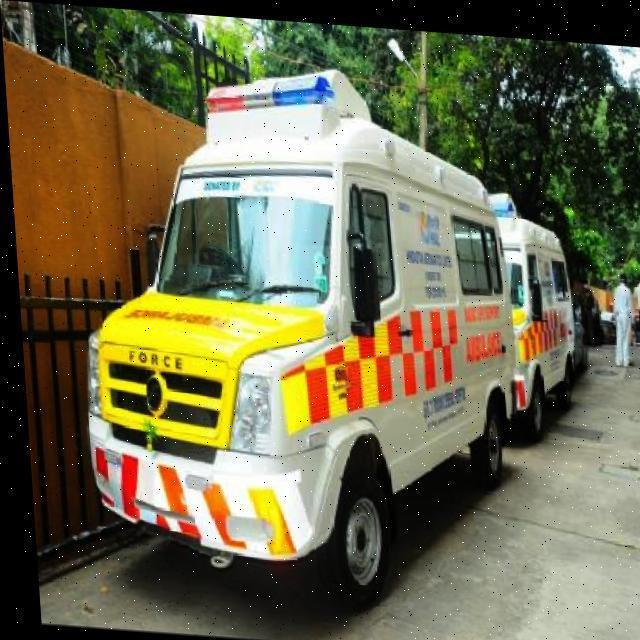Ambulance: (52, 43, 600, 627), (15, 283, 640, 640), (482, 184, 588, 438)
